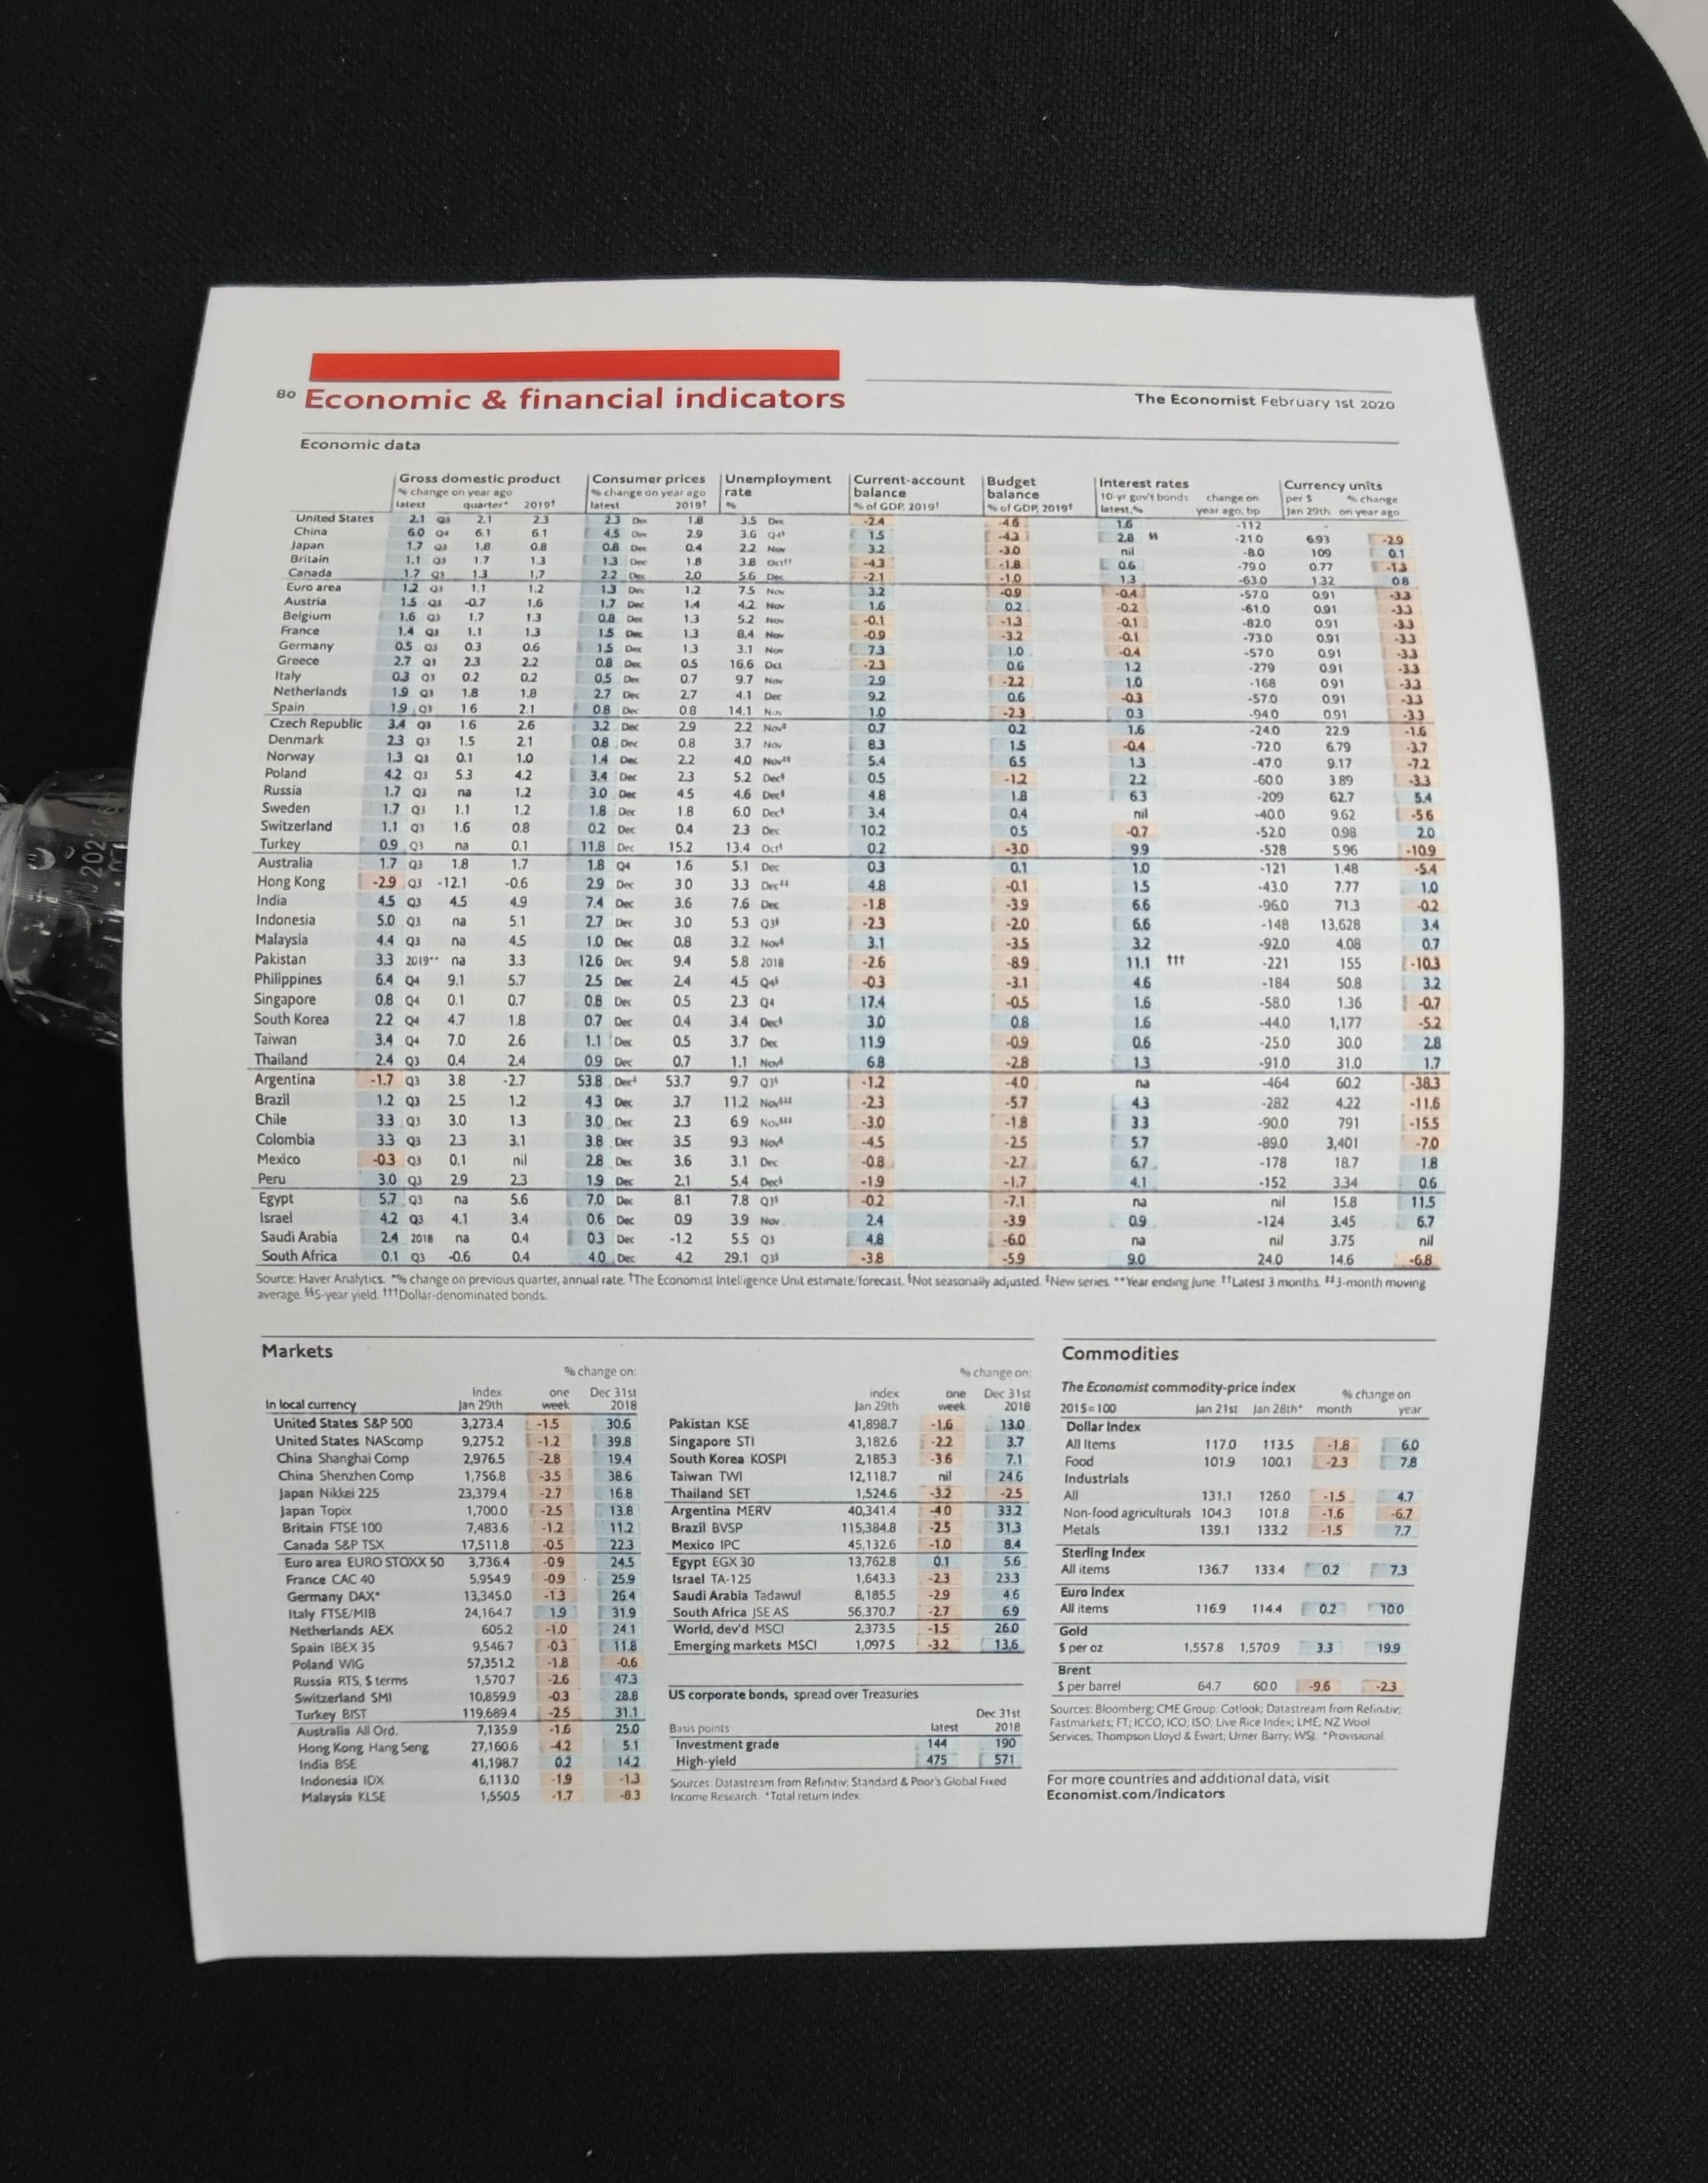paper: (43, 80, 1697, 2096)
